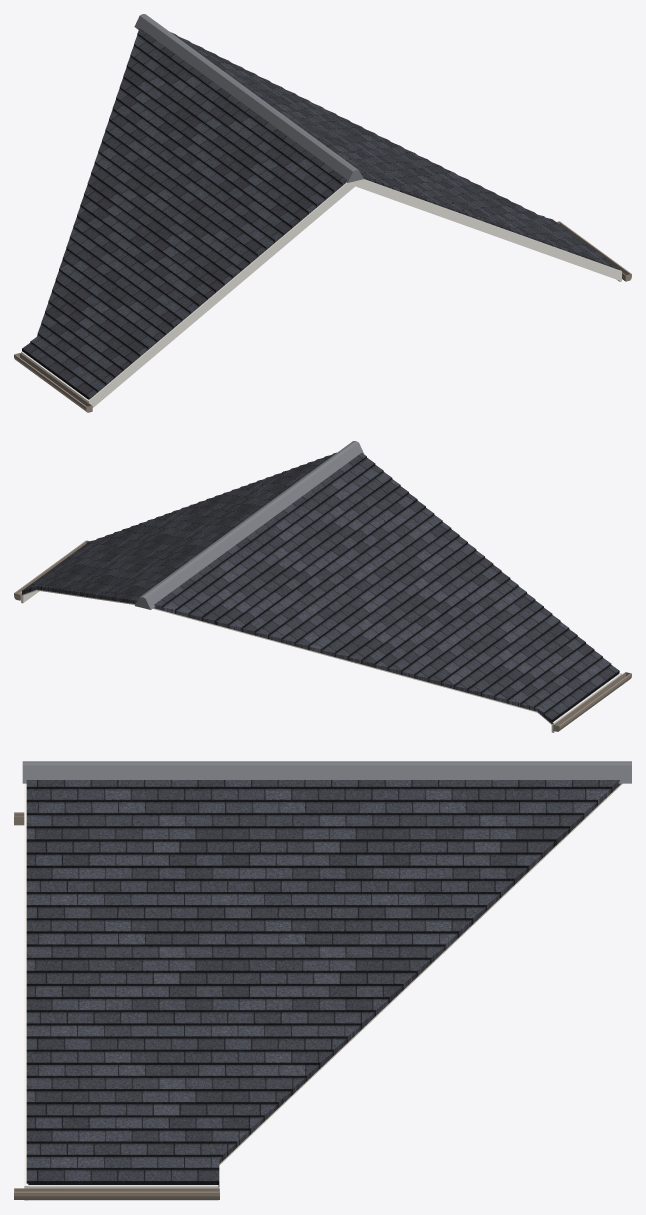
The model's file is porch_roof.glb.
The picture shows the model from 3 angles, top to bottom: view 1: azimuth 30°, elevation 25°; view 2: azimuth 150°, elevation 25°; view 3: azimuth 270°, elevation 25°; orthographic projection. The views are drawn at different scales.
Visible parts, largest first — view 1: porch_roof_shingles, porch_roof_trim, porch_roof_ridge, porch_roof_gutter; view 2: porch_roof_shingles, porch_roof_ridge, porch_roof_gutter, porch_roof_plaster, porch_roof_trim; view 3: porch_roof_shingles, porch_roof_ridge, porch_roof_gutter, porch_roof_trim, porch_roof_plaster.
Part boxes in pixels (bbox=[...]): porch_roof_shingles: bbox=[22, 28, 619, 399]; porch_roof_trim: bbox=[21, 179, 621, 407]; porch_roof_ridge: bbox=[134, 14, 363, 182]; porch_roof_gutter: bbox=[14, 221, 631, 412]; porch_roof_shingles: bbox=[22, 452, 619, 723]; porch_roof_ridge: bbox=[134, 441, 363, 609]; porch_roof_gutter: bbox=[14, 540, 631, 731]; porch_roof_plaster: bbox=[22, 589, 552, 724]; porch_roof_trim: bbox=[21, 543, 621, 732]; porch_roof_shingles: bbox=[26, 780, 620, 1186]; porch_roof_ridge: bbox=[22, 761, 631, 783]; porch_roof_gutter: bbox=[14, 812, 219, 1199]; porch_roof_trim: bbox=[24, 783, 218, 1200]; porch_roof_plaster: bbox=[218, 783, 622, 1187].
Bounding box in the file's own units: 11.22 × 3.47 × 7.71.
5 materials, 2 textured.
